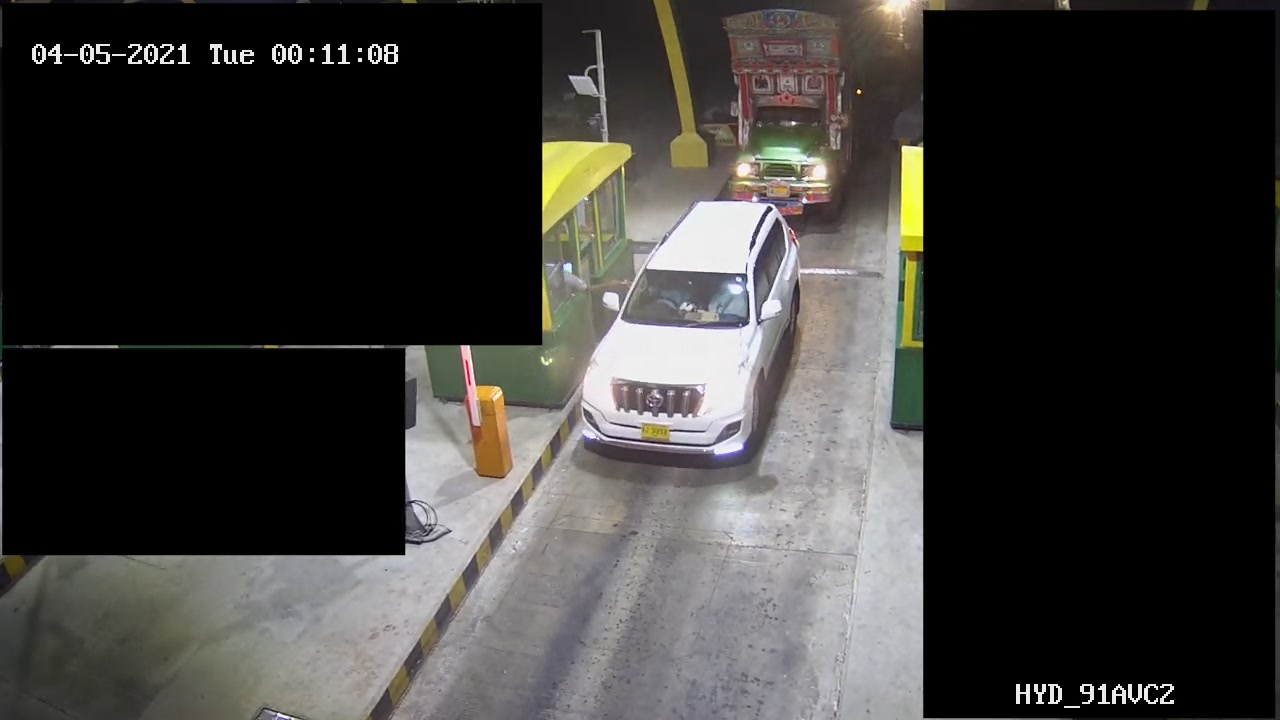F1: (574, 198, 828, 467)
